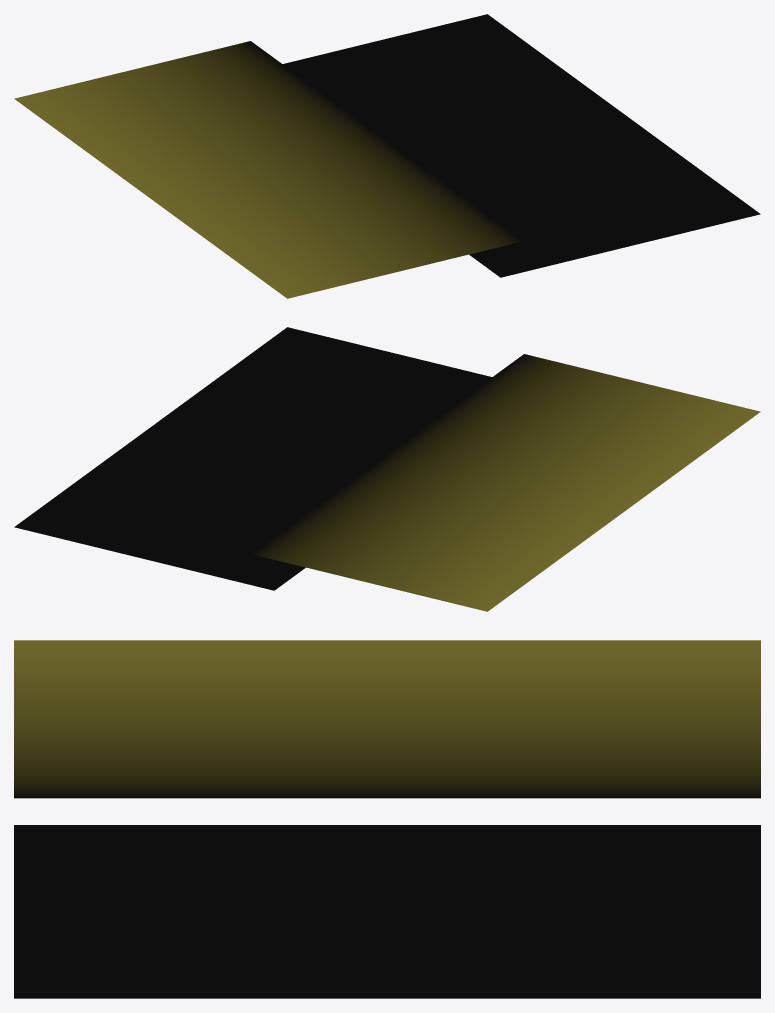
3 views of the same model, one above another, from view 1: azimuth 30°, elevation 25°; view 2: azimuth 150°, elevation 25°; view 3: azimuth 270°, elevation 25° (orthographic). The views are drawn at different scales.
Bounding box in the file's own units: 1 × 0.0625 × 1.
Materials: 1 (1 with a texture image).
